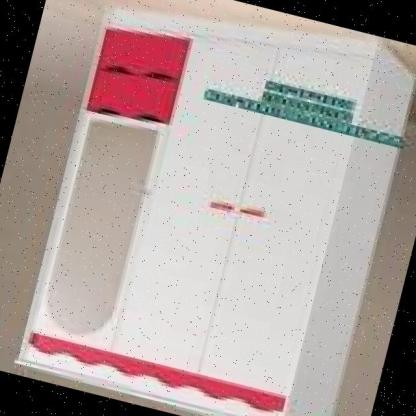Closet: (8, 0, 416, 416)
